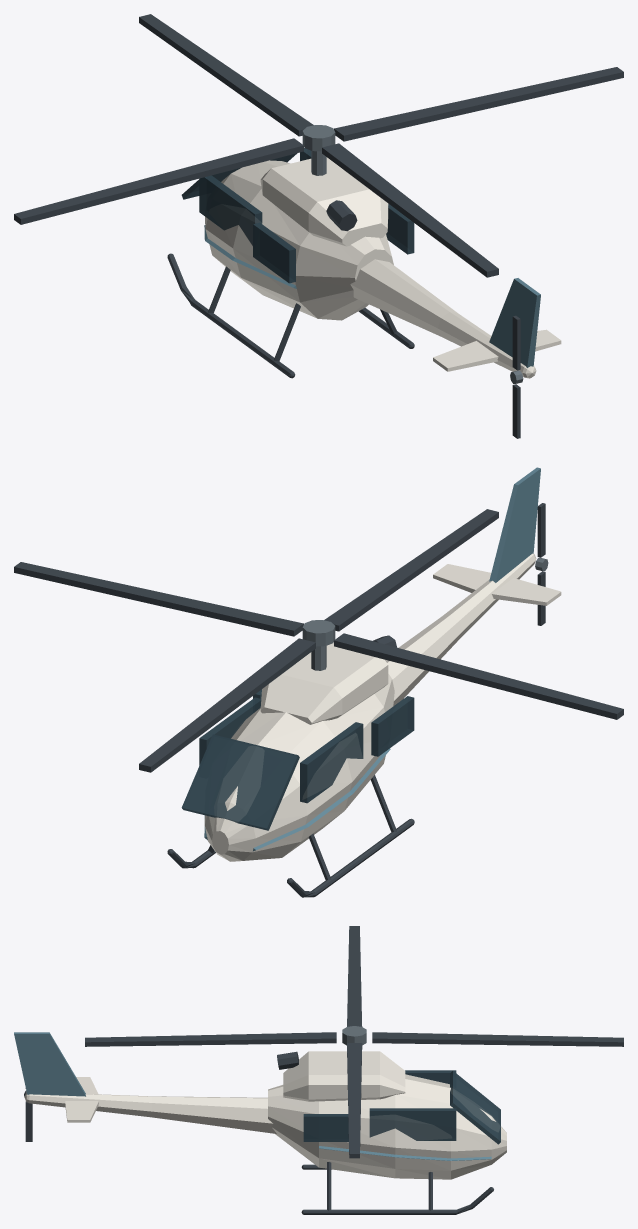
File: AIR_03.obj
3 renders of one model, top to bottom at view 1: azimuth 30°, elevation 25°; view 2: azimuth 150°, elevation 25°; view 3: azimuth 270°, elevation 25°, orthographic. The views are drawn at different scales.
Parts seen in each view (by area): view 1: main_rotor, fuselage, engine_cowl, tail_boom, cockpit_glass, cabin_window, tail_fin, skids, stabilizer, tail_rotor, skid_struts, exhaust; view 2: main_rotor, fuselage, cockpit_glass, engine_cowl, tail_boom, tail_fin, stabilizer, cabin_window, skids, tail_rotor, stripe, skid_struts; view 3: fuselage, main_rotor, tail_boom, cockpit_glass, engine_cowl, tail_fin, cabin_window, skids, stabilizer, stripe, skid_struts.
Boxes of the visible parts, left/top/right/bottom form: main_rotor: left=14, top=14, right=623, bottom=277; fuselage: left=205, top=160, right=393, bottom=320; engine_cowl: left=260, top=157, right=388, bottom=246; tail_boom: left=350, top=259, right=536, bottom=378; cockpit_glass: left=181, top=148, right=311, bottom=245; cabin_window: left=253, top=203, right=414, bottom=283; tail_fin: left=489, top=278, right=540, bottom=367; skids: left=167, top=253, right=414, bottom=378; stabilizer: left=433, top=329, right=561, bottom=371; tail_rotor: left=510, top=315, right=523, bottom=438; skid_struts: left=208, top=266, right=396, bottom=361; exhaust: left=326, top=200, right=357, bottom=231; main_rotor: left=14, top=509, right=623, bottom=772; fuselage: left=204, top=674, right=394, bottom=861; cockpit_glass: left=181, top=697, right=363, bottom=830; engine_cowl: left=260, top=642, right=388, bottom=724; tail_boom: left=385, top=553, right=536, bottom=705; tail_fin: left=489, top=467, right=540, bottom=582; stabilizer: left=433, top=564, right=561, bottom=605; cabin_window: left=253, top=689, right=414, bottom=756; skids: left=167, top=818, right=414, bottom=897; tail_rotor: left=535, top=503, right=548, bottom=625; stripe: left=204, top=748, right=390, bottom=851; skid_struts: left=208, top=775, right=396, bottom=880; fuselage: left=268, top=1074, right=506, bottom=1179; main_rotor: left=85, top=926, right=623, bottom=1158; tail_boom: left=24, top=1093, right=276, bottom=1133; cockpit_glass: left=369, top=1070, right=500, bottom=1144; engine_cowl: left=283, top=1051, right=405, bottom=1101; tail_fin: left=14, top=1032, right=85, bottom=1096; cabin_window: left=303, top=1114, right=348, bottom=1141; skids: left=301, top=1164, right=493, bottom=1214; stabilizer: left=65, top=1077, right=98, bottom=1122; stripe: left=319, top=1146, right=491, bottom=1160; skid_struts: left=327, top=1162, right=432, bottom=1210.
Bounding box in the file's own units: 10.6 × 3.49 × 12.
